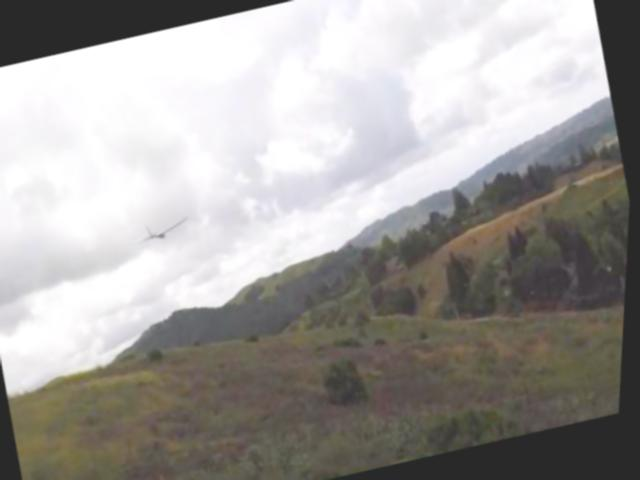iha: (136, 214, 193, 248)
